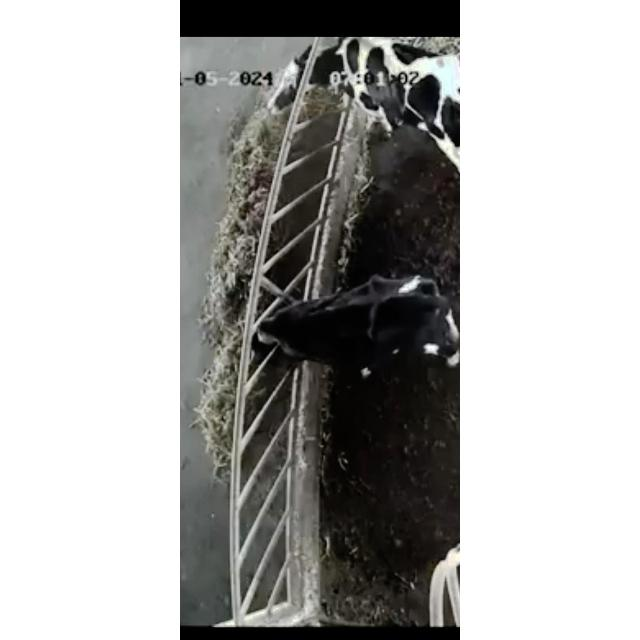eat: (255, 36, 410, 126), (218, 288, 348, 367)
